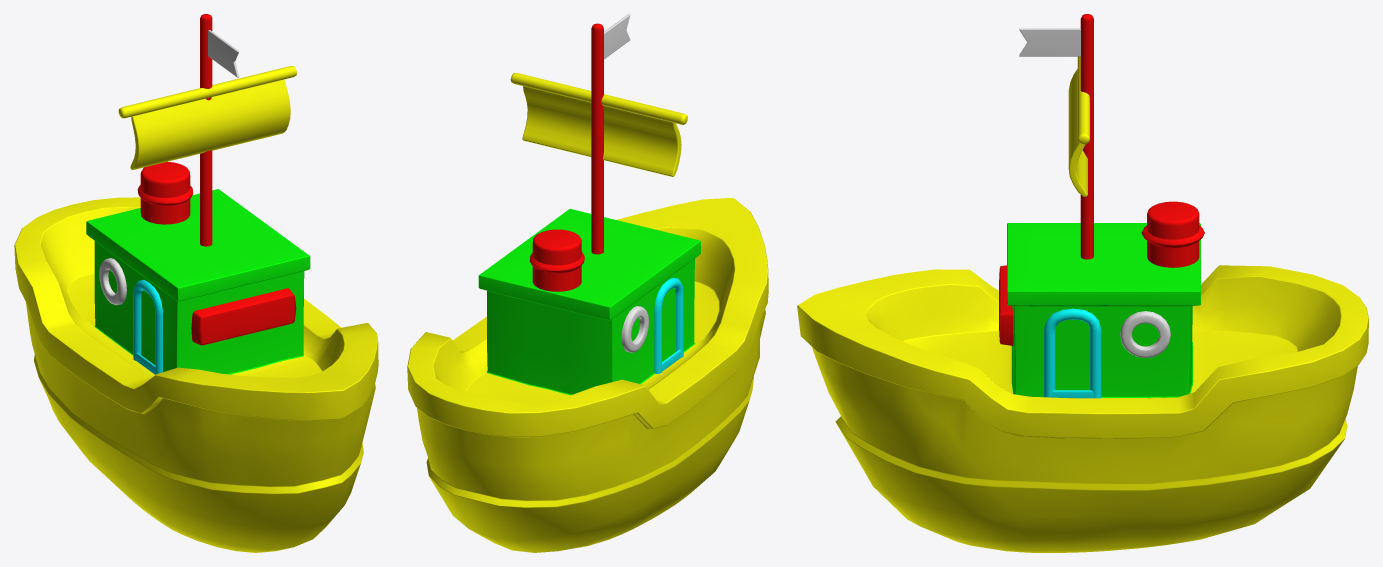
Rendered from Boat_3.fbx.
The picture shows the model from 3 angles, left to right: view 1: azimuth 30°, elevation 25°; view 2: azimuth 150°, elevation 25°; view 3: azimuth 270°, elevation 25°; orthographic projection. The views are drawn at different scales.
Visible parts, largest first — view 1: Boat_3, Fabric_geo, pCube1, Pilar_geo, Flag_geo, pCylinder4, pTorus2; view 2: Boat_3, Fabric_geo, Flag_geo, Pilar_geo, pCylinder4, pTorus2; view 3: Boat_3, Flag_geo, Pilar_geo, pCylinder5, Fabric_geo, pTorus1, pCube1.
Boxes of the visible parts, x1=… form: Boat_3: x1=14, y1=189, x2=378, y2=552; Fabric_geo: x1=118, y1=66, x2=296, y2=169; pCube1: x1=191, y1=288, x2=296, y2=345; Pilar_geo: x1=137, y1=161, x2=193, y2=224; Flag_geo: x1=200, y1=14, x2=239, y2=246; pCylinder4: x1=133, y1=280, x2=162, y2=374; pTorus2: x1=99, y1=258, x2=126, y2=305; Boat_3: x1=407, y1=197, x2=768, y2=552; Fabric_geo: x1=510, y1=73, x2=687, y2=176; Flag_geo: x1=591, y1=14, x2=630, y2=254; Pilar_geo: x1=529, y1=229, x2=584, y2=291; pCylinder4: x1=654, y1=278, x2=683, y2=373; pTorus2: x1=621, y1=306, x2=648, y2=352; Boat_3: x1=797, y1=223, x2=1368, y2=552; Flag_geo: x1=1019, y1=14, x2=1093, y2=259; Pilar_geo: x1=1141, y1=201, x2=1204, y2=267; pCylinder5: x1=1044, y1=308, x2=1101, y2=398; Fabric_geo: x1=1068, y1=56, x2=1089, y2=196; pTorus1: x1=1120, y1=311, x2=1170, y2=358; pCube1: x1=999, y1=265, x2=1013, y2=345.
Size of the model in its own units: 5.14 by 10.68 by 10.59.
